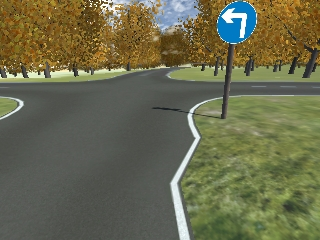left: (215, 2, 257, 43)
